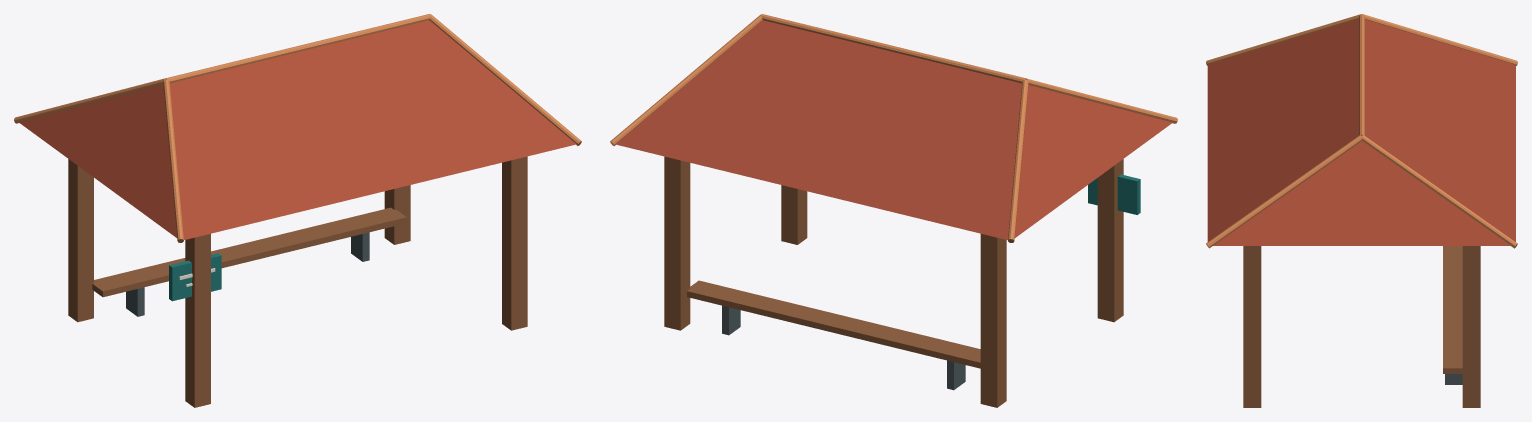
File: 008_ferry_waiting_pavilion.glb
3 views of the same model, side by side, from view 1: azimuth 30°, elevation 25°; view 2: azimuth 150°, elevation 25°; view 3: azimuth 270°, elevation 25° (orthographic). The views are drawn at different scales.
Parts seen in each view (by area): view 1: Ferry waiting pavilion; view 2: Ferry waiting pavilion; view 3: Ferry waiting pavilion.
Part boxes in pixels (x1=…): Ferry waiting pavilion: x1=14, y1=14, x2=581, y2=407; Ferry waiting pavilion: x1=610, y1=14, x2=1177, y2=407; Ferry waiting pavilion: x1=1206, y1=14, x2=1517, y2=407.
Size of the model in its own units: 6.38 by 4.14 by 4.55.
